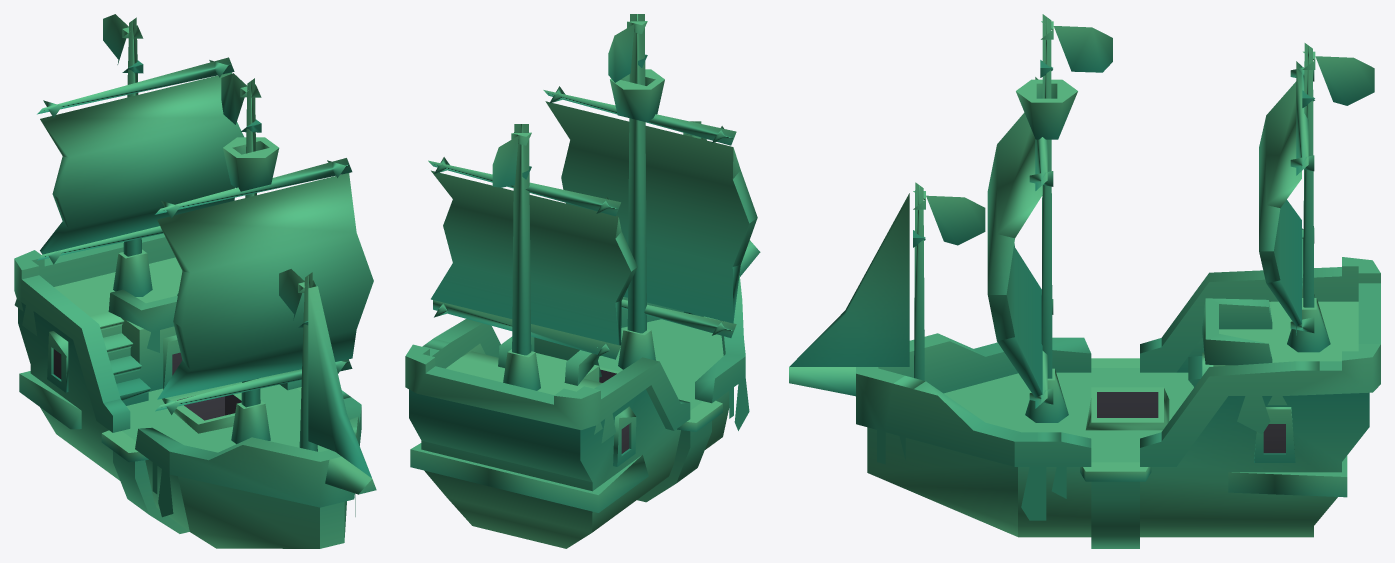
The model's file is cc0-ship-ghost-lod1.glb.
The picture shows the model from 3 angles, left to right: view 1: azimuth 30°, elevation 25°; view 2: azimuth 150°, elevation 25°; view 3: azimuth 270°, elevation 25°; orthographic projection. The views are drawn at different scales.
Parts seen in each view (by area): view 1: part_0; view 2: part_0; view 3: part_0.
Part boxes in pixels (bbox=[...]): part_0: bbox=[14, 14, 376, 548]; part_0: bbox=[405, 14, 760, 548]; part_0: bbox=[789, 14, 1380, 548].
Bounding box in the file's own units: 4.8 × 9.96 × 10.6.
1 material, 1 textured.
